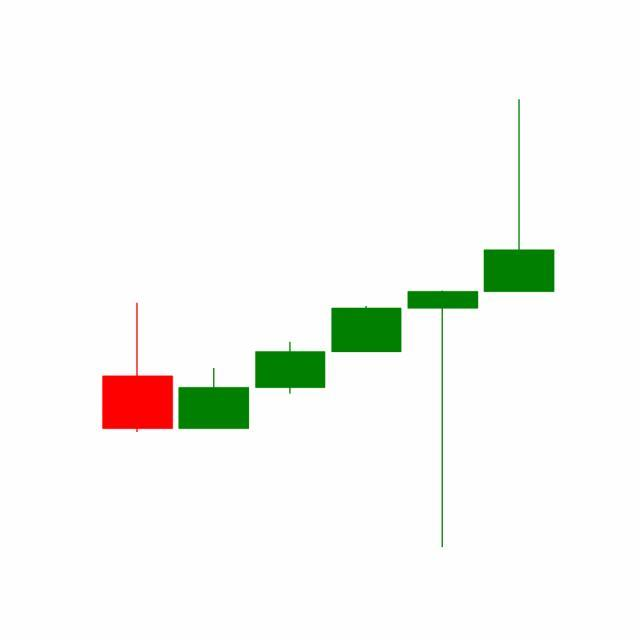Hanging Man: (404, 288, 482, 551)
